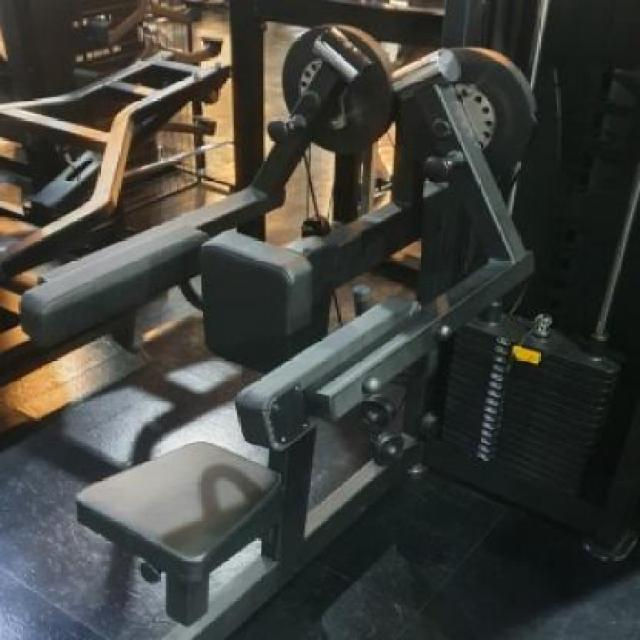lateral raises machine: (21, 24, 543, 640)
